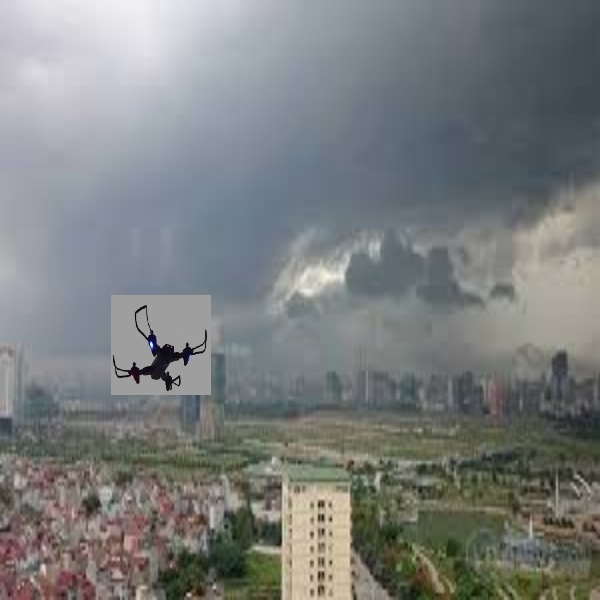drone: (110, 294, 214, 397)
